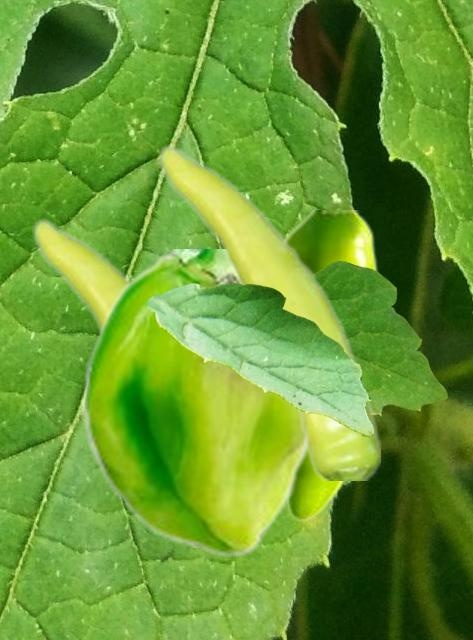green_chili: (158, 142, 379, 479), (82, 249, 307, 557), (285, 210, 382, 521), (32, 216, 130, 333)
